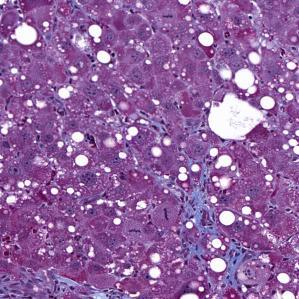fibrosis: (183, 192, 230, 269)
